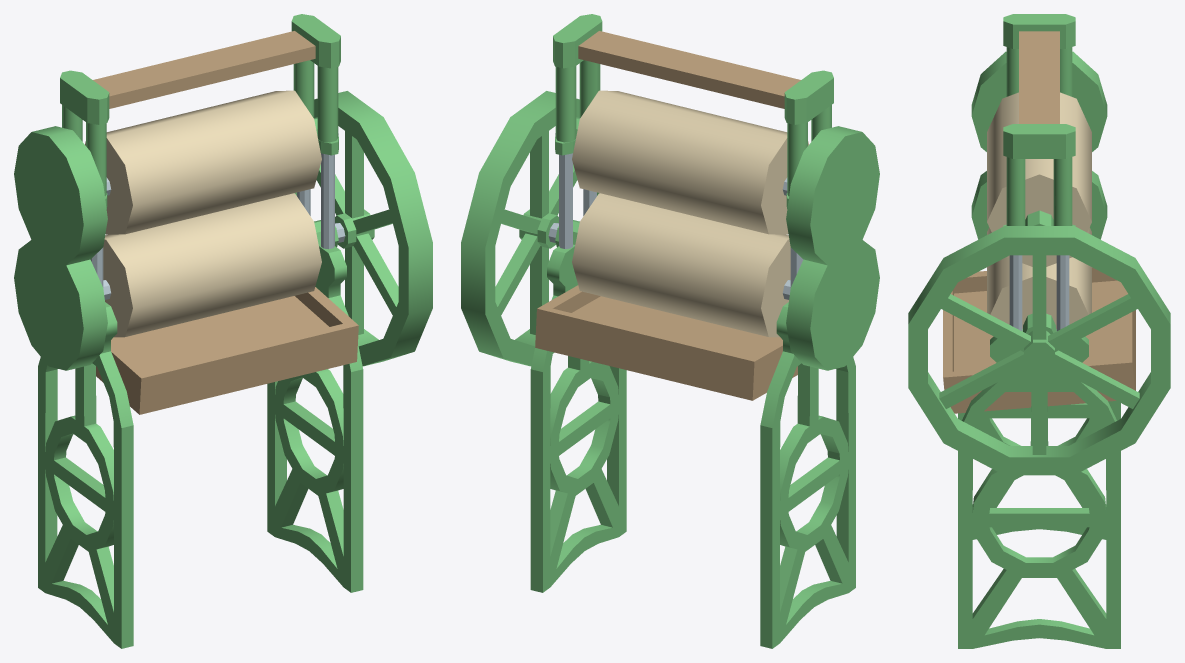
The model's file is Roller.fbx.
3 views of the same model, side by side, from view 1: azimuth 30°, elevation 25°; view 2: azimuth 150°, elevation 25°; view 3: azimuth 270°, elevation 25° (orthographic). The views are drawn at different scales.
Visible parts, largest first — view 1: roller2, roller5, roller1, roller, roller3, roller4; view 2: roller2, roller5, roller1, roller3, roller4, roller; view 3: roller4, roller5, roller3, roller2, roller, roller1, roller6.
Boxes of the visible parts, left/top/right/bottom form: roller2: left=85, top=90, right=321, bottom=337; roller5: left=38, top=244, right=363, bottom=648; roller1: left=14, top=126, right=107, bottom=370; roller: left=96, top=287, right=358, bottom=414; roller3: left=60, top=14, right=340, bottom=287; roller4: left=294, top=91, right=432, bottom=366; roller2: left=572, top=90, right=808, bottom=337; roller5: left=530, top=244, right=855, bottom=648; roller1: left=786, top=126, right=879, bottom=370; roller3: left=553, top=14, right=833, bottom=287; roller4: left=461, top=91, right=599, bottom=366; roller: left=535, top=285, right=797, bottom=400; roller4: left=908, top=226, right=1170, bottom=475; roller5: left=958, top=329, right=1120, bottom=648; roller3: left=1003, top=14, right=1075, bottom=330; roller2: left=987, top=92, right=1091, bottom=328; roller: left=943, top=267, right=1135, bottom=413; roller1: left=971, top=51, right=1107, bottom=239; roller6: left=1023, top=210, right=1055, bottom=334.
Bounding box in the file's own units: 26.3 × 42.07 × 19.32.
